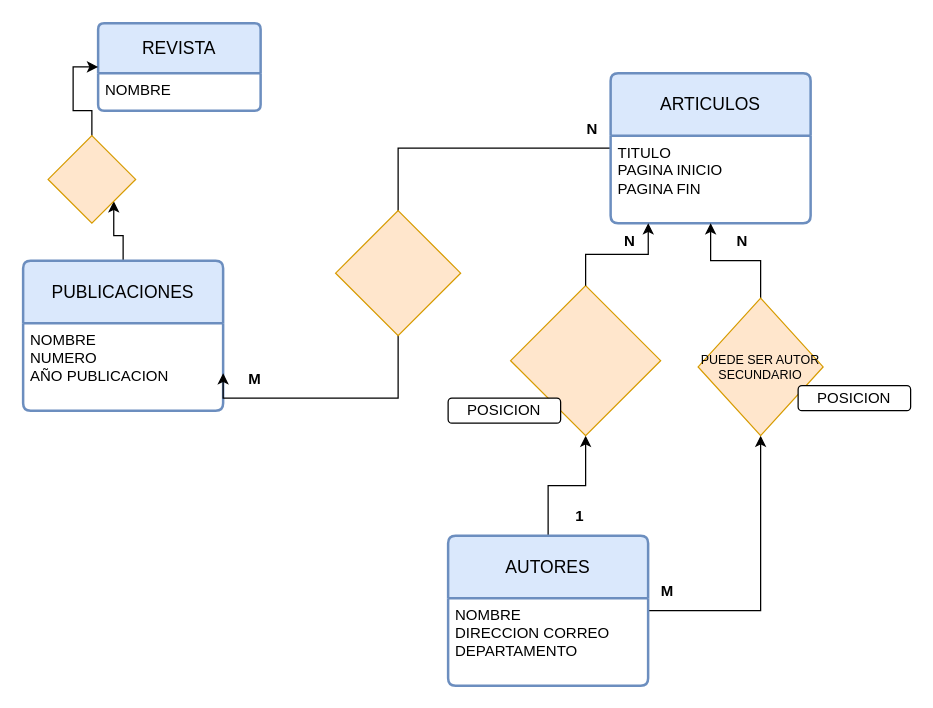
Image size: 933x708. Some labels were removed from this diagram. The shapes that lost their labels are listed below. From the top down, each one's centre as x and y in pixels, then its label:
[91,178]: ISSN
[397,272]: PAGINA INICIO/FIN
[585,360]: PUEDE SER AUTOR PRINCIPAL
